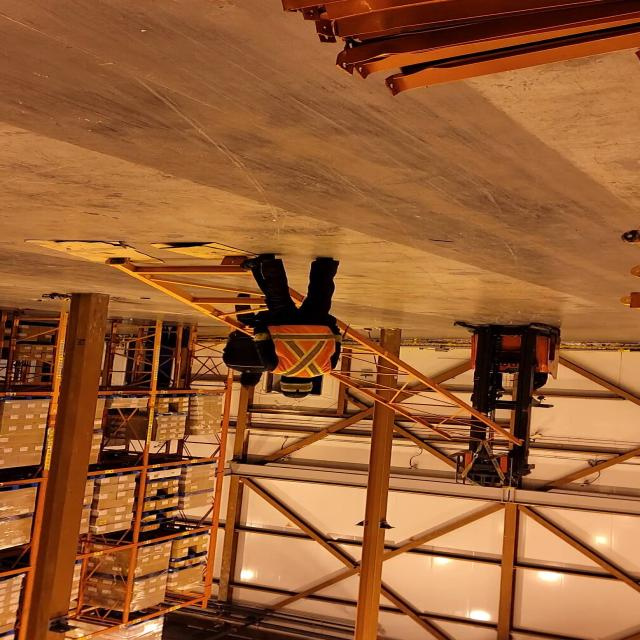forklift: (451, 319, 563, 472)
human: (240, 252, 347, 400), (217, 291, 273, 387), (508, 368, 553, 394)
objectofinterest: (92, 257, 536, 450), (22, 237, 164, 271), (148, 242, 264, 263)
